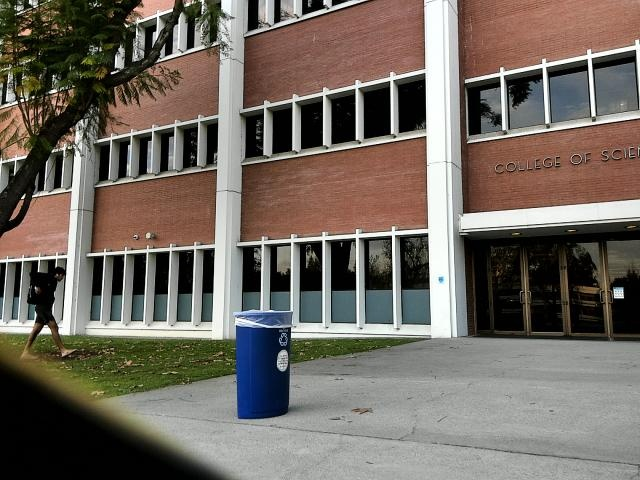trashcan_open: (224, 302, 301, 428)
